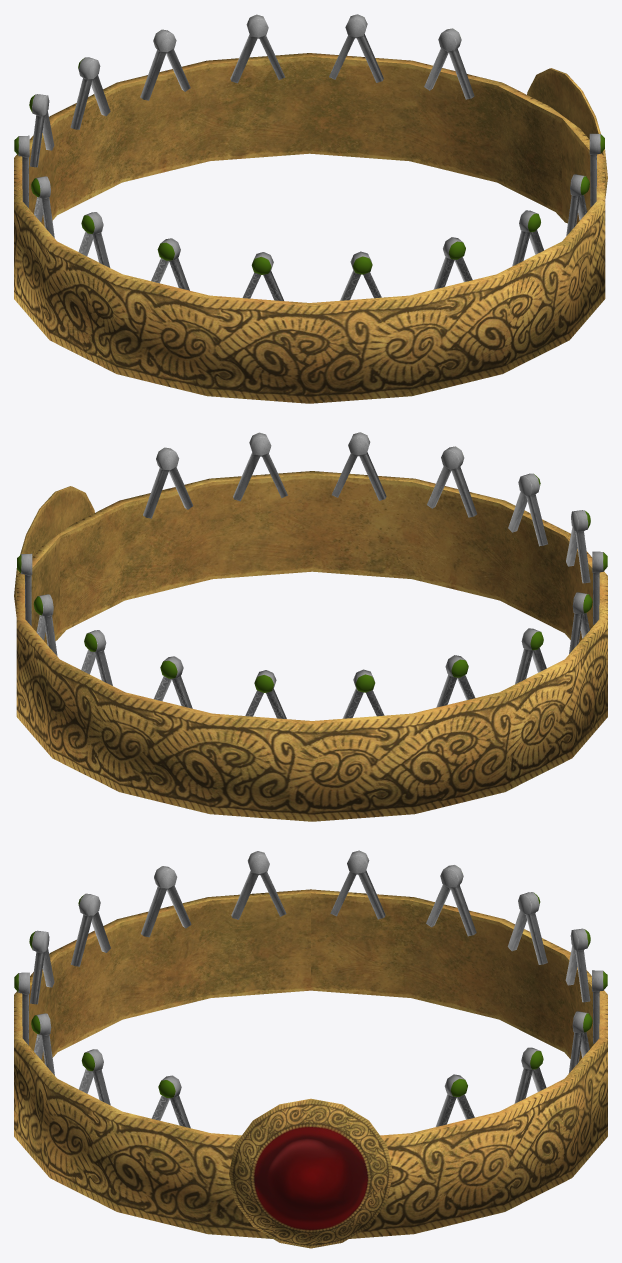
Rendered from w_crown__crown-rich-gold.glb.
3 renders of one model, top to bottom at view 1: azimuth 30°, elevation 25°; view 2: azimuth 150°, elevation 25°; view 3: azimuth 270°, elevation 25°, orthographic.
Visible parts, largest first — view 1: ring_low001, scheibe_low002, zacken_low016, zacken_low013, zacken_low012, zacken_low014, zacken_low015, zacken_low011, zacken_low004, zacken_low007, zacken_low008, zacken_low003 (+6 smaller); view 2: ring_low001, scheibe_low002, zacken_low004, zacken_low001, zacken_low005, zacken_low003, zacken_low002, zacken_low006, zacken_low013, zacken_low010, zacken_low009, zacken_low014 (+6 smaller); view 3: ring_low001, scheibe_low002, zacken_low010, zacken_low007, zacken_low006, zacken_low011, zacken_low008, zacken_low009, zacken_low005, zacken_low012, zacken_low001, zacken_low016 (+6 smaller).
Boxes of the visible parts, bbox=[...] form: ring_low001: bbox=[14, 53, 605, 403]; scheibe_low002: bbox=[527, 68, 607, 223]; zacken_low016: bbox=[424, 28, 474, 99]; zacken_low013: bbox=[140, 29, 190, 100]; zacken_low012: bbox=[70, 57, 110, 129]; zacken_low014: bbox=[230, 14, 285, 83]; zacken_low015: bbox=[329, 14, 383, 82]; zacken_low011: bbox=[29, 94, 54, 167]; zacken_low004: bbox=[433, 237, 472, 289]; zacken_low007: bbox=[151, 238, 189, 290]; zacken_low008: bbox=[78, 212, 110, 267]; zacken_low003: bbox=[512, 210, 543, 266]; ring_low001: bbox=[16, 471, 607, 821]; scheibe_low002: bbox=[14, 486, 94, 640]; zacken_low004: bbox=[427, 446, 476, 517]; zacken_low001: bbox=[143, 447, 193, 518]; zacken_low005: bbox=[508, 473, 547, 546]; zacken_low003: bbox=[331, 432, 386, 500]; zacken_low002: bbox=[233, 432, 287, 501]; zacken_low006: bbox=[566, 510, 590, 583]; zacken_low013: bbox=[154, 656, 192, 708]; zacken_low010: bbox=[436, 655, 475, 707]; zacken_low009: bbox=[515, 628, 546, 684]; zacken_low014: bbox=[81, 630, 112, 685]; ring_low001: bbox=[14, 889, 607, 1238]; scheibe_low002: bbox=[229, 1098, 392, 1248]; zacken_low010: bbox=[426, 865, 476, 936]; zacken_low007: bbox=[141, 866, 191, 937]; zacken_low006: bbox=[71, 893, 110, 966]; zacken_low011: bbox=[507, 892, 547, 964]; zacken_low008: bbox=[231, 851, 286, 919]; zacken_low009: bbox=[330, 850, 385, 919]; zacken_low005: bbox=[29, 930, 54, 1004]; zacken_low012: bbox=[565, 928, 590, 1002]; zacken_low001: bbox=[151, 1075, 190, 1128]; zacken_low016: bbox=[435, 1074, 474, 1126].
Bounding box in the file's own units: 56.49 × 15.16 × 54.28.
Materials: 1 (1 with a texture image).
